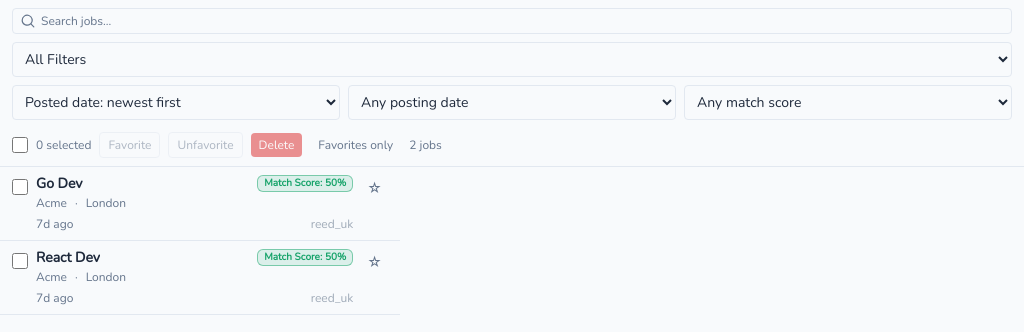
Scenario: JobList › shows no-favorites empty state when favorites-only has no matches
Click the button with aria-label "show only favorite jobs".
click(356, 145)  # box x1=310 y1=133 x2=401 y2=157
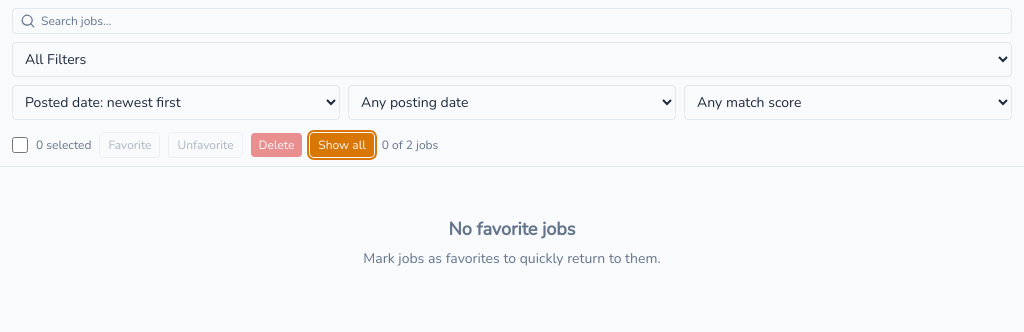
Expected: the heading "No favorite jobs" is shown, x1=448 y1=215 x2=575 y2=244
Expected: the text "Mark jobs as favorites to quickly return to them." is shown, x1=363 y1=248 x2=661 y2=271
